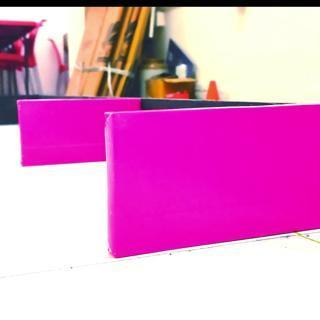xparking: (103, 112, 320, 256), (18, 100, 102, 163)
